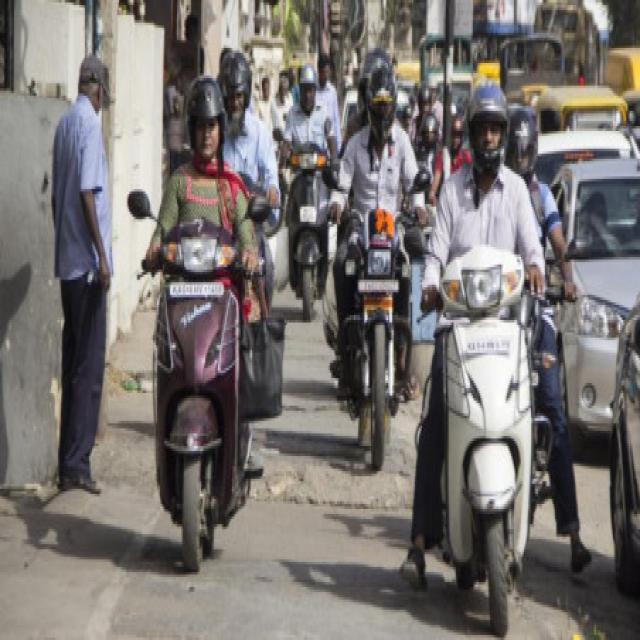car: (552, 160, 640, 433)
motorcycle: (401, 82, 545, 635), (142, 78, 260, 568), (330, 60, 425, 468), (281, 65, 335, 320), (129, 196, 151, 217)
